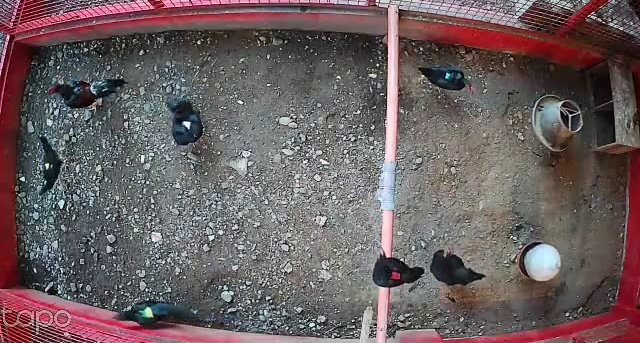Chicken: (427, 245, 488, 290), (164, 95, 212, 151), (111, 297, 192, 330), (33, 129, 68, 200), (370, 246, 425, 291), (414, 65, 475, 96)
Rooster: (45, 75, 131, 116)
Saddle_Color_Blue: (445, 72, 452, 78)
Saddle_Color_Red: (389, 271, 401, 282)
Saddle_Color_White: (182, 119, 192, 129)
Saddle_Color_Yellow: (43, 161, 55, 170)
Saddle_Color_YellowGreen: (138, 306, 156, 317)
